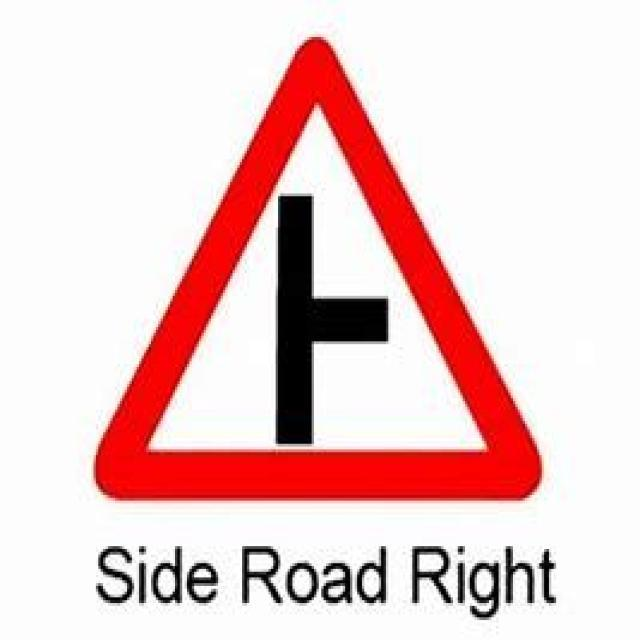side road right: (90, 24, 550, 513)
